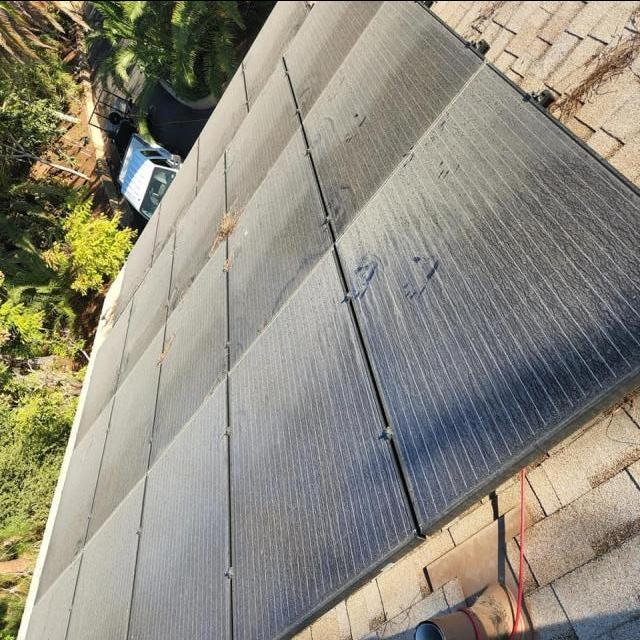soiled: (38, 6, 640, 638)
